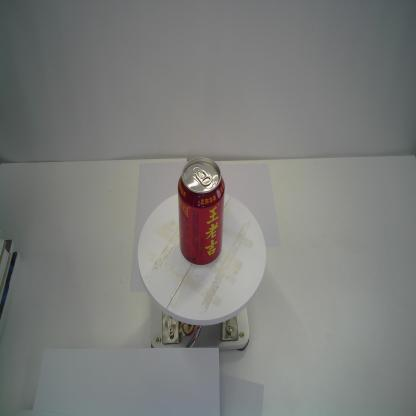Drink: (177, 155, 225, 268)
